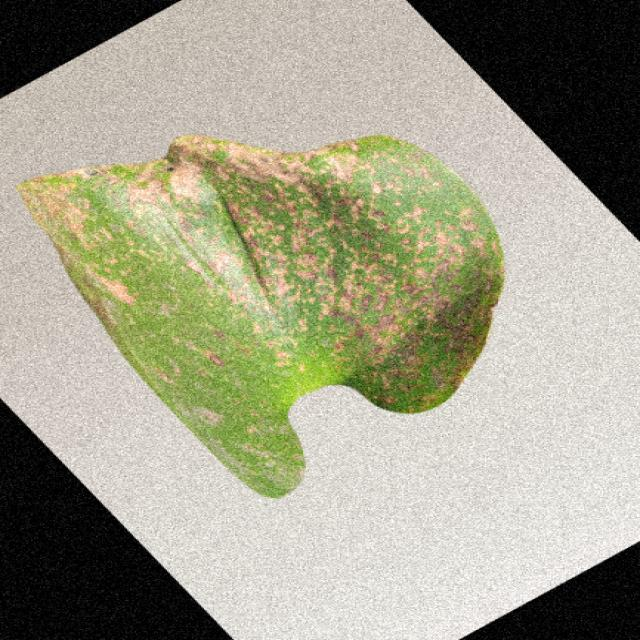daun berpenyakit bercak: (18, 136, 503, 498)
